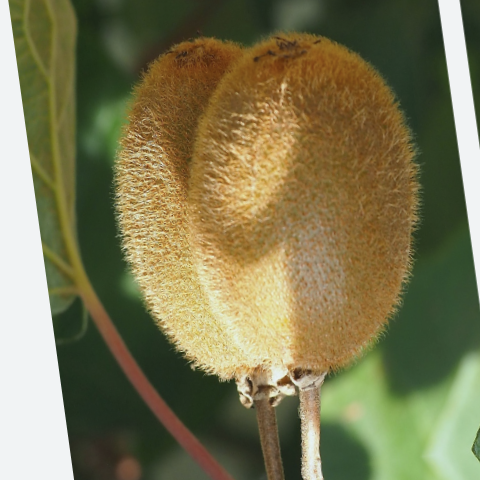kiwi: (161, 0, 449, 413)
